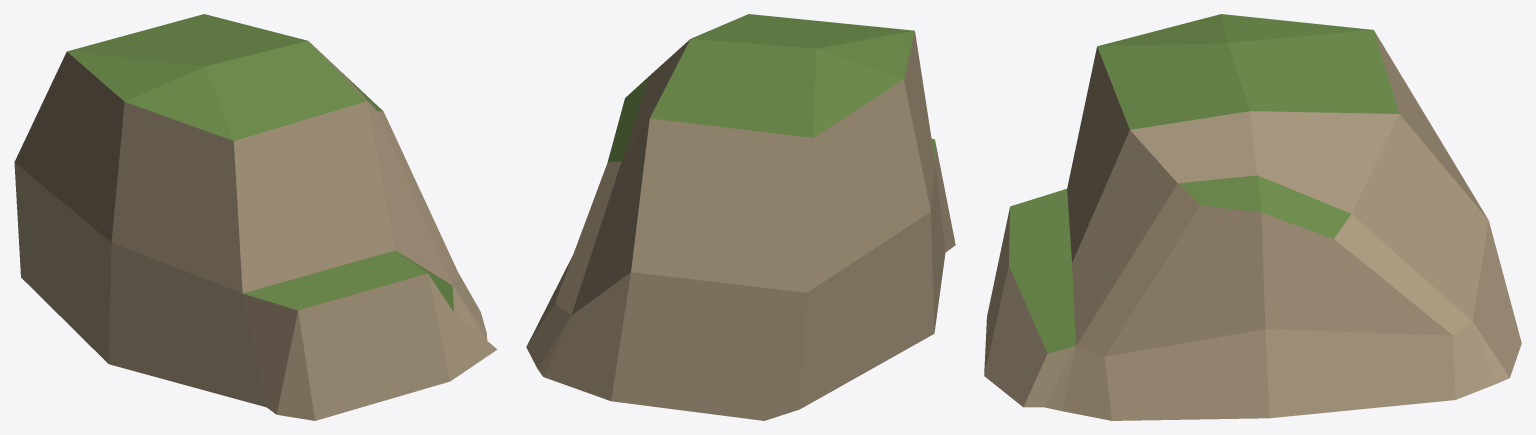
Rendered from rocher_moussu_3.glb.
3 views of the same model, side by side, from view 1: azimuth 30°, elevation 25°; view 2: azimuth 150°, elevation 25°; view 3: azimuth 270°, elevation 25° (orthographic). The views are drawn at different scales.
Visible parts, largest first — view 1: rocher_moussu_3; view 2: rocher_moussu_3; view 3: rocher_moussu_3.
Boxes of the visible parts, x1=… form: rocher_moussu_3: x1=14, y1=14, x2=496, y2=420; rocher_moussu_3: x1=526, y1=14, x2=955, y2=420; rocher_moussu_3: x1=984, y1=14, x2=1521, y2=420.
Size of the model in its own units: 0.6669 by 0.58 by 0.92.
